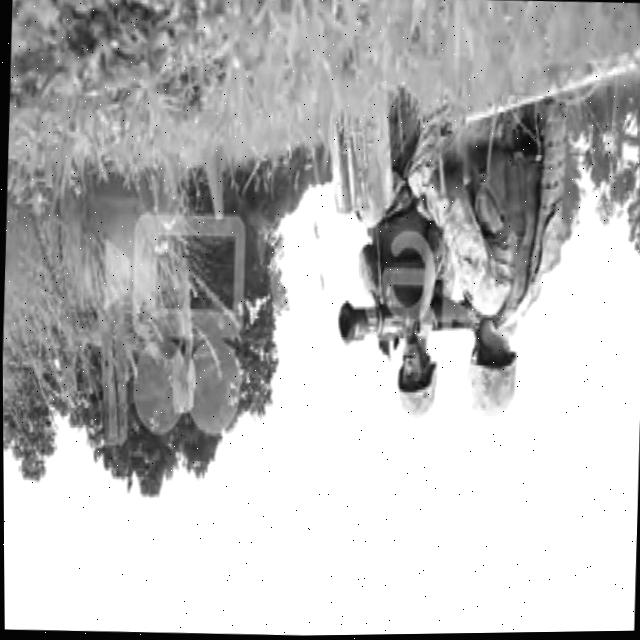rocket: (335, 287, 478, 347)
